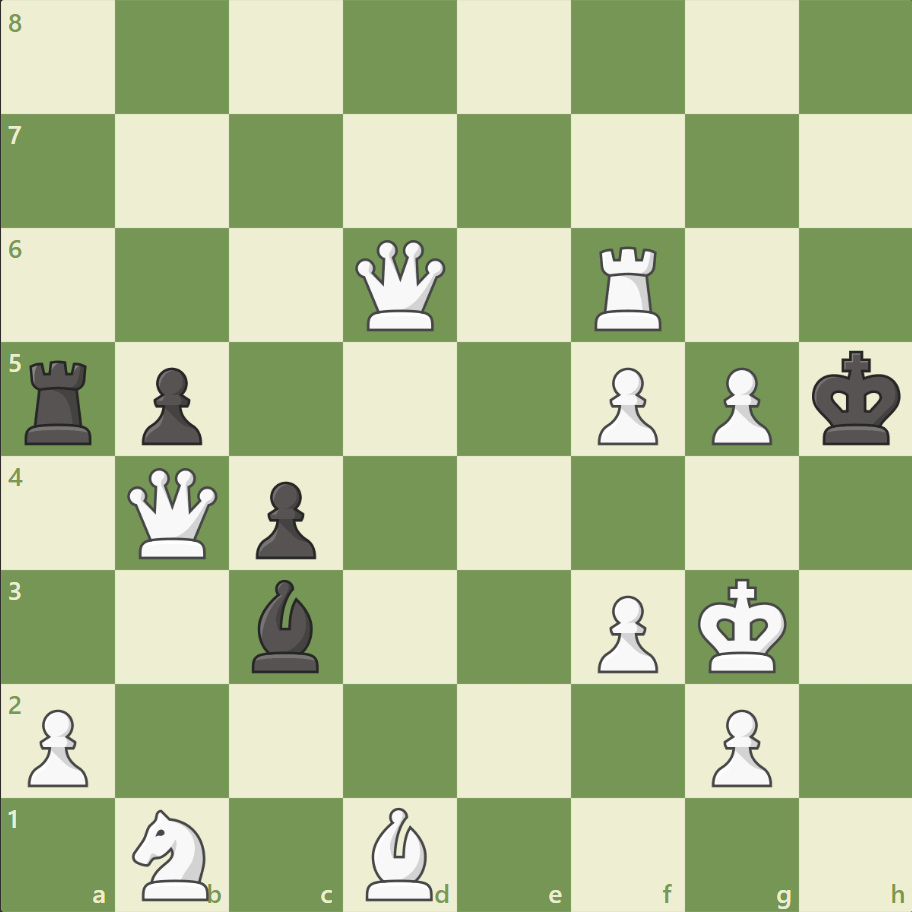B: (358, 801, 442, 904)
K: (692, 571, 792, 679)
N: (124, 802, 222, 904)
P: (701, 359, 776, 450), (20, 700, 95, 791), (701, 700, 776, 791), (588, 359, 662, 450), (588, 586, 662, 677)
Q: (351, 236, 450, 335), (124, 463, 223, 562)
R: (587, 239, 670, 336)
b: (244, 574, 328, 676)
k: (806, 344, 906, 452)
p: (133, 359, 208, 450), (247, 473, 322, 564)
r: (19, 352, 102, 449)
